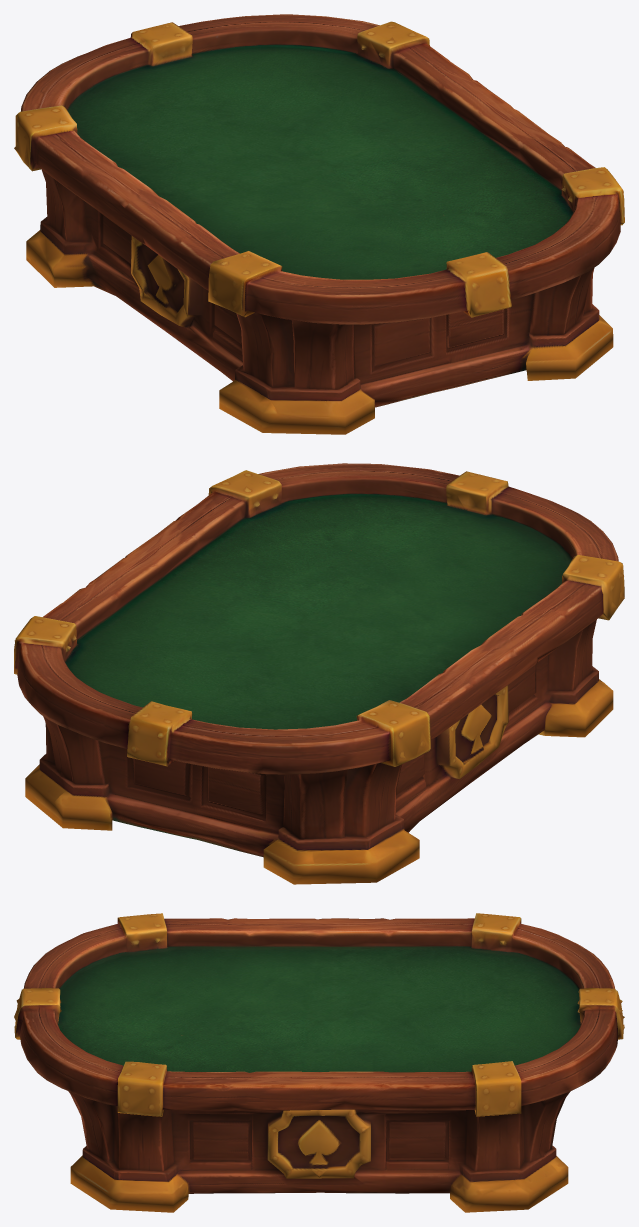
File: source-tripo-meshopt.glb
3 views of the same model, one above another, from view 1: azimuth 30°, elevation 25°; view 2: azimuth 150°, elevation 25°; view 3: azimuth 270°, elevation 25° (orthographic). The views are drawn at different scales.
Visible parts, largest first — view 1: tripo_node_ccb96427-2084-46e7-9e90-dc8717f0723a; view 2: tripo_node_ccb96427-2084-46e7-9e90-dc8717f0723a; view 3: tripo_node_ccb96427-2084-46e7-9e90-dc8717f0723a.
Boxes of the visible parts, <box> form: tripo_node_ccb96427-2084-46e7-9e90-dc8717f0723a: <box>14,14,624,434</box>; tripo_node_ccb96427-2084-46e7-9e90-dc8717f0723a: <box>14,463,624,884</box>; tripo_node_ccb96427-2084-46e7-9e90-dc8717f0723a: <box>14,913,624,1212</box>.
Bounding box in the file's own units: 0.6766 × 0.2527 × 1.
Materials: 1 (1 with a texture image).
